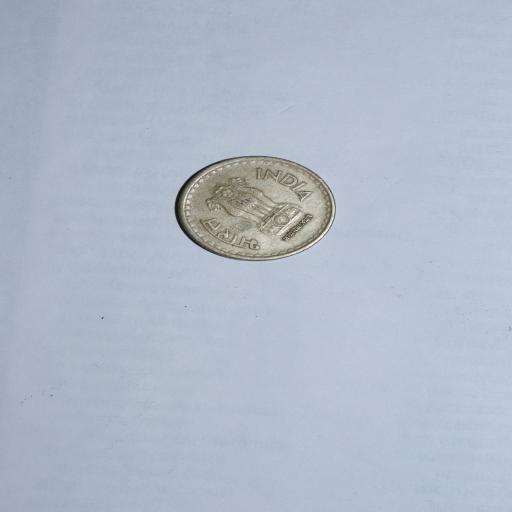rupee5: (170, 156, 341, 266)
